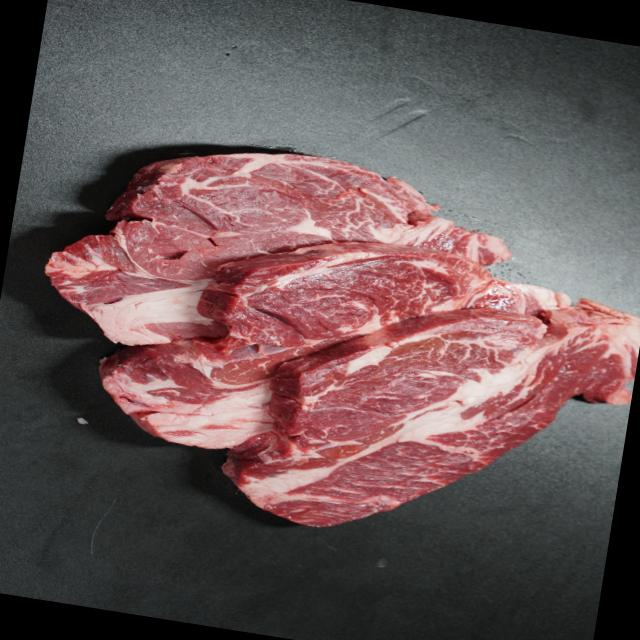beef: (177, 290, 558, 494), (78, 156, 456, 358)
